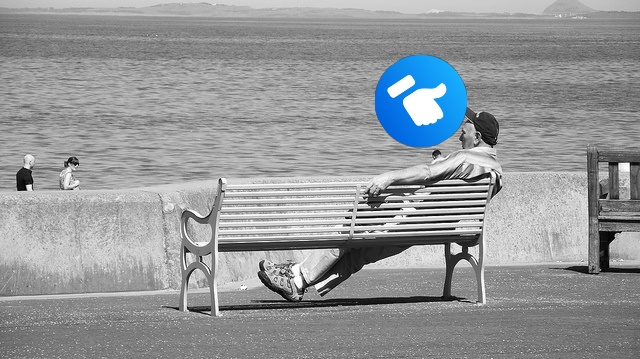like: (375, 55, 467, 147)
